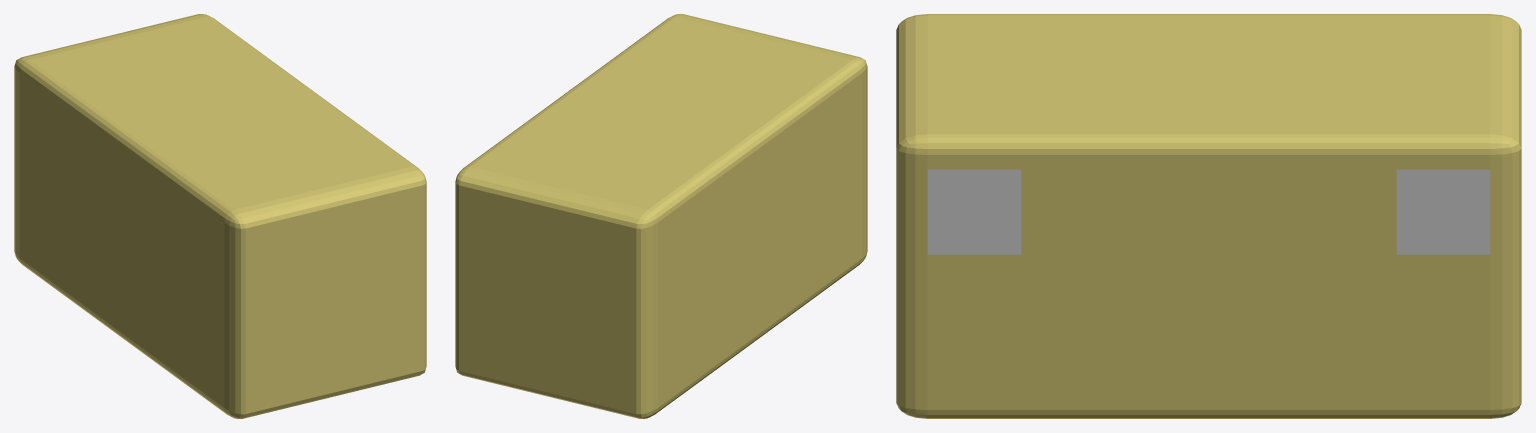
Rendered from Trans_Highlight_Hashtag.dae.
The picture shows the model from 3 angles, left to right: view 1: azimuth 30°, elevation 25°; view 2: azimuth 150°, elevation 25°; view 3: azimuth 270°, elevation 25°; orthographic projection. The views are drawn at different scales.
Visible parts, largest first — view 1: Cube; view 2: Cube; view 3: Cube, Plane, Plane_001.
Boxes of the visible parts, left/top/right/bottom form: Cube: left=14, top=14, right=426, bottom=418; Cube: left=455, top=14, right=867, bottom=418; Cube: left=896, top=14, right=1521, bottom=418; Plane: left=927, top=169, right=1021, bottom=254; Plane_001: left=1396, top=169, right=1490, bottom=254.
Bounding box in the file's own units: 1 × 2 × 1.
